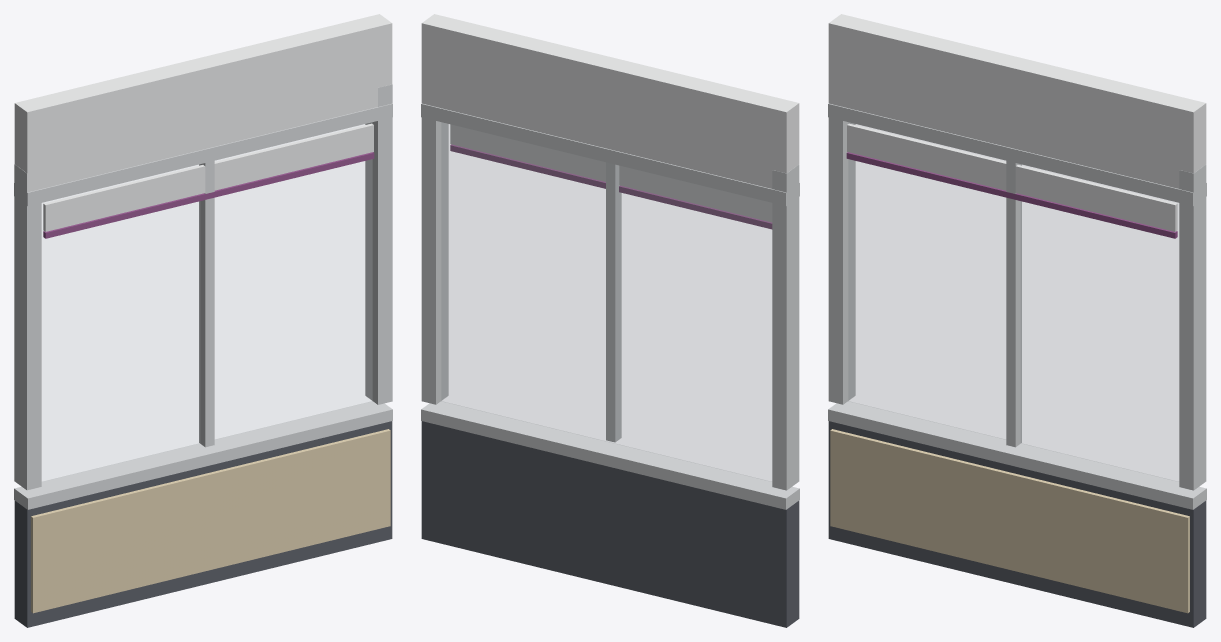
The model's file is pharmacy-and-high-street-chemist-shopfront-window-bay-2681f55d__37494.glb.
3 renders of one model, left to right at view 1: azimuth 30°, elevation 25°; view 2: azimuth 150°, elevation 25°; view 3: azimuth 330°, elevation 25°, orthographic.
Visible parts, largest first — view 1: shopfront-window-bay; view 2: shopfront-window-bay; view 3: shopfront-window-bay.
Part boxes in pixels (x1,y1,x2,y2): shopfront-window-bay: [14, 14, 392, 627]; shopfront-window-bay: [421, 14, 799, 627]; shopfront-window-bay: [828, 14, 1206, 627].
Bounding box in the file's own units: 2 × 2.7 × 0.1451.
